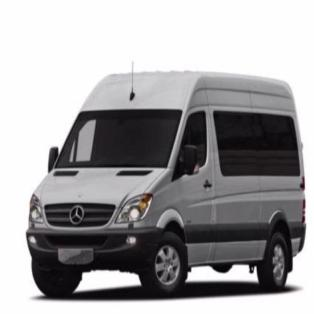Auto: (25, 61, 306, 300)
